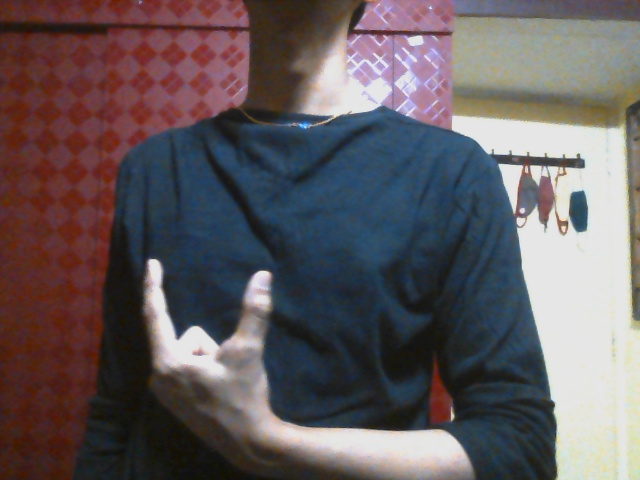U: (140, 254, 274, 424)
